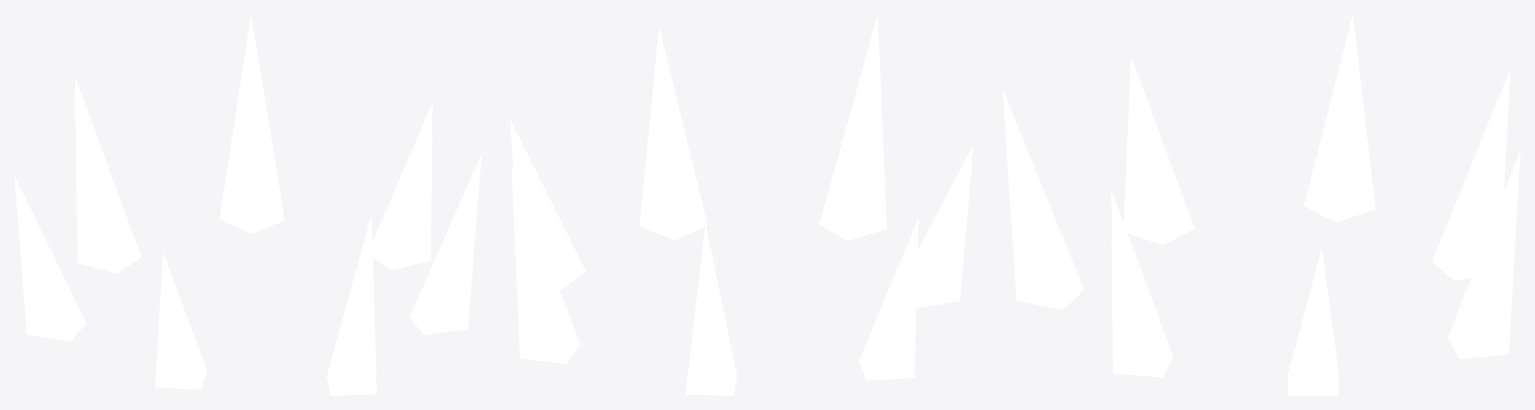
Rendered from root_spikes.glb.
3 views of the same model, side by side, from view 1: azimuth 30°, elevation 25°; view 2: azimuth 150°, elevation 25°; view 3: azimuth 270°, elevation 25° (orthographic). The views are drawn at different scales.
Parts seen in each view (by area): view 1: root_spikes; view 2: root_spikes; view 3: root_spikes.
Boxes of the visible parts, box(x1,y1,x2,y2) form: root_spikes: box(14, 15, 481, 395); root_spikes: box(510, 15, 973, 395); root_spikes: box(1002, 14, 1520, 395).
Size of the model in its own units: 0.8564 by 0.38 by 0.8634.
1 material, 1 textured.
